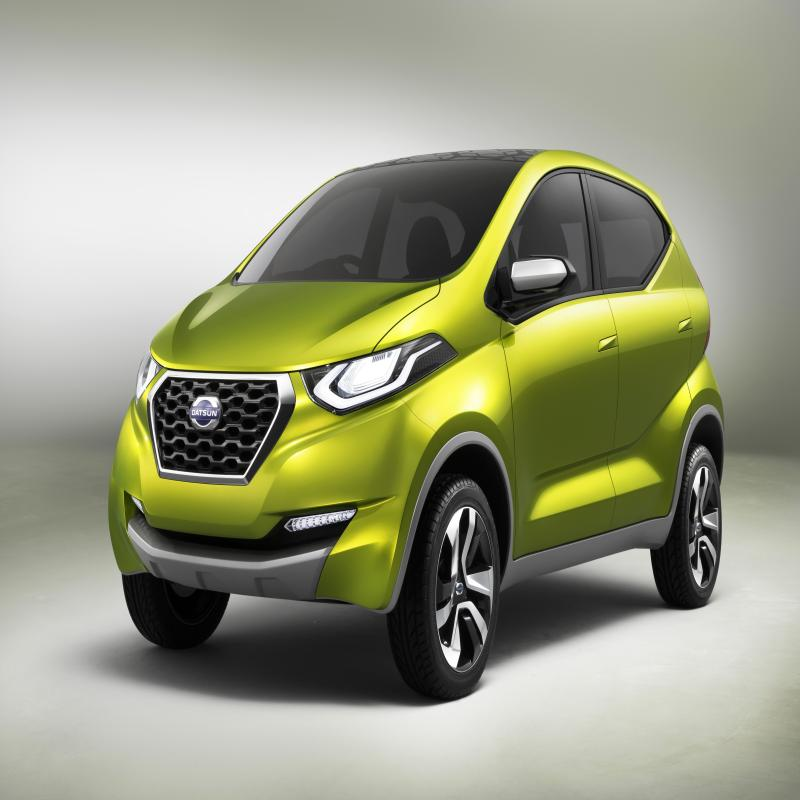car: (94, 123, 734, 696)
